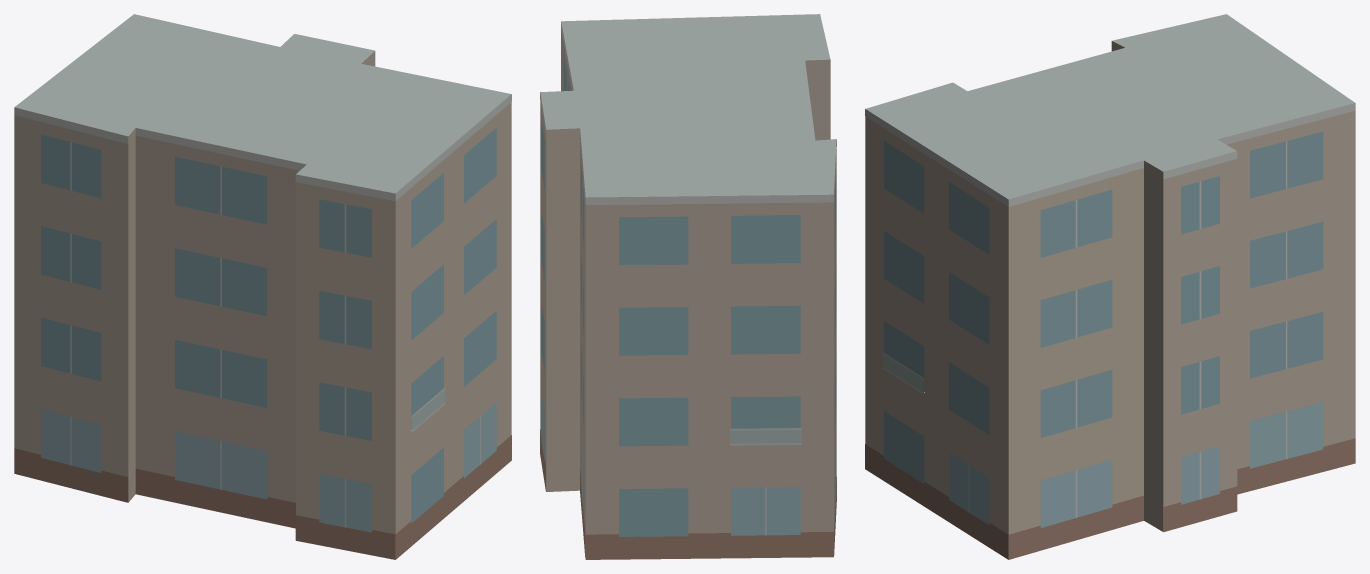
The model's file is survey-upis-32526296.glb.
3 views of the same model, side by side, from view 1: azimuth 30°, elevation 25°; view 2: azimuth 150°, elevation 25°; view 3: azimuth 270°, elevation 25° (orthographic).
Parts seen in each view (by area): view 1: survey-upis-32526296.tmp; view 2: survey-upis-32526296.tmp; view 3: survey-upis-32526296.tmp.
Boxes of the visible parts, bbox=[...] form: survey-upis-32526296.tmp: bbox=[14, 14, 511, 559]; survey-upis-32526296.tmp: bbox=[540, 14, 836, 559]; survey-upis-32526296.tmp: bbox=[865, 14, 1355, 559].
Size of the model in its own units: 12.82 by 11.6 by 14.32.
